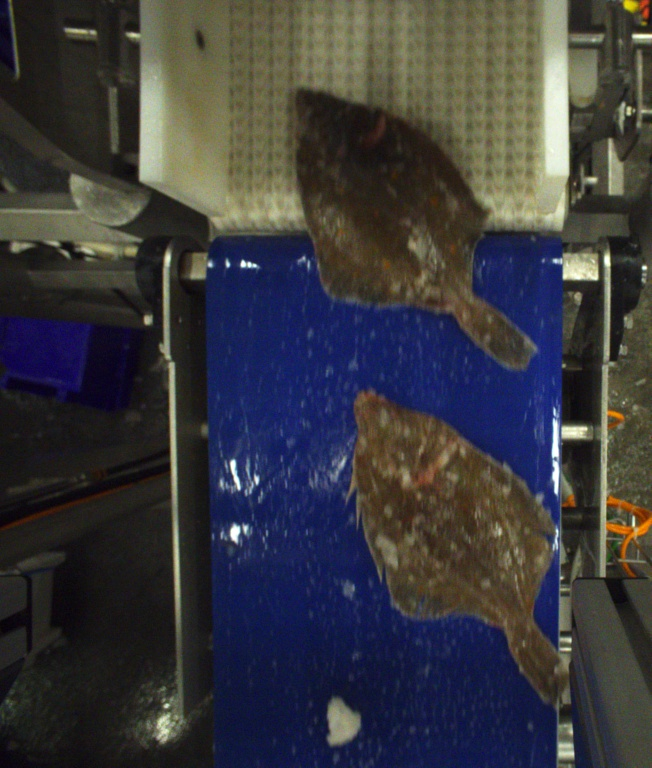PLE: (352, 389, 568, 702)
